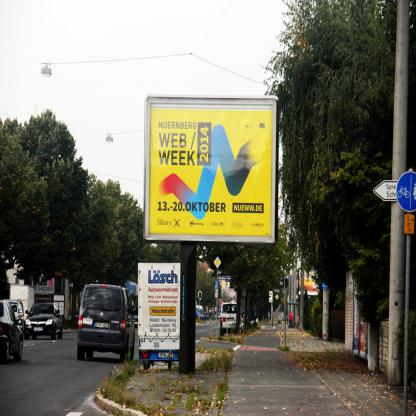Car: (76, 284, 134, 364), (0, 300, 24, 361), (25, 302, 62, 338), (220, 304, 239, 335), (8, 298, 25, 330)
